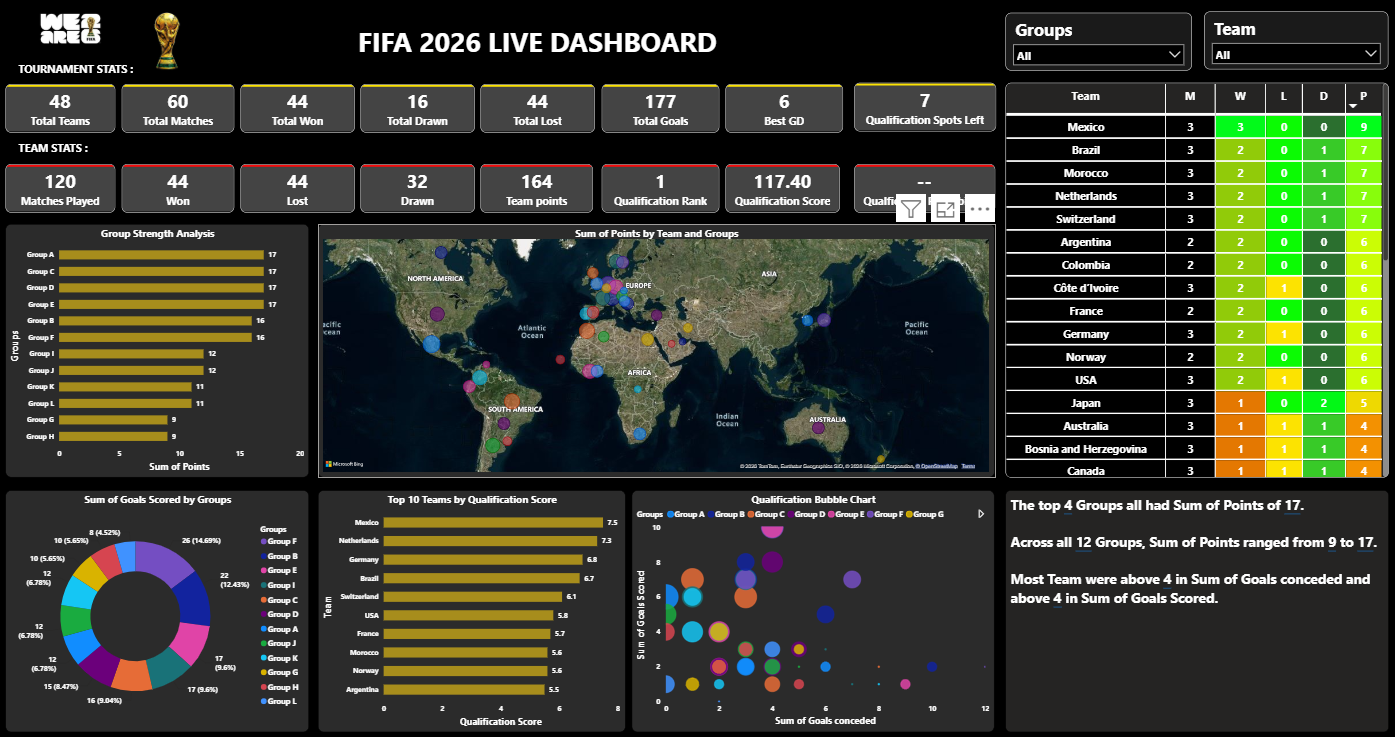

What the dashboard file says about the page in this screenshot:
{"tool":"powerbi","page":{"name":"Top 32 qualfiers","canvas":[2440,1300],"ordinal":0},"visuals":[{"type":"image","box":[248.9,13.5,91.9,125.6],"z":0},{"type":"image","box":[0,0,248.9,103.1],"z":1000},{"type":"slicer","fields":{"Values":["FIFA 2026 live.Groups"]},"box":[1755.6,24.7,325.1,100.9],"z":2000},{"type":"slicer","fields":{"Values":["FIFA 2026 live.Team"]},"box":[2103.1,22.4,320.6,100.9],"z":3000},{"type":"textbox","box":[30.2,104.1,220.2,43.7],"z":4000},{"type":"cardVisual","fields":{"Data":["Measure Table Tournament Stats.Total Matches"]},"box":[215.7,147.8,196,84.5],"z":5000},{"type":"cardVisual","fields":{"Data":["Measure Table Tournament Stats.Total Won"]},"box":[422.3,147.8,199.1,84.5],"z":6000},{"type":"cardVisual","fields":{"Data":["Measure Table Tournament Stats.Total Lost"]},"box":[841.5,147.8,199.1,84.5],"z":7000},{"type":"cardVisual","fields":{"Data":["Measure Table Tournament Stats.Total Draws"]},"box":[631.9,147.8,199.1,84.5],"z":8000},{"type":"cardVisual","fields":{"Data":["Measure Table Tournament Stats.Total Goals"]},"box":[1051.1,147.8,205.1,84.5],"z":9000},{"type":"cardVisual","fields":{"Data":["Measure Table Tournament Stats.Total Teams"]},"box":[13.6,147.8,191.5,84.5],"z":10000},{"type":"cardVisual","fields":{"Data":["Measure Table Tournament Stats.Best GD"]},"box":[1268.3,147.8,205.1,84.5],"z":11000},{"type":"cardVisual","fields":{"Data":["Measure Table Tournament Stats.Qualification Spots Left"]},"box":[1492,146.8,247.3,84.5],"z":12000},{"type":"textbox","box":[30.2,242.8,220.2,43.7],"z":13000},{"type":"cardVisual","fields":{"Data":["Measure Table for team.Matches Played"]},"box":[13.6,286.5,191.5,84.5],"z":14000},{"type":"cardVisual","fields":{"Data":["Measure Table for team.Won"]},"box":[215.7,286.5,196,84.5],"z":15000},{"type":"cardVisual","fields":{"Data":["Measure Table for team.Lost"]},"box":[422.3,286.5,199.1,84.5],"z":16000},{"type":"cardVisual","fields":{"Data":["Measure Table for team.Drawn"]},"box":[631.9,286.5,199.1,84.5],"z":17000},{"type":"cardVisual","fields":{"Data":["Measure Table for team.Qualification Score"]},"box":[1268.3,286.5,199.1,84.5],"z":18000},{"type":"cardVisual","fields":{"Data":["Measure Table Tournament Stats.Selected Team Probability"]},"box":[1493,286.5,245.8,84.5],"z":19000},{"type":"cardVisual","fields":{"Data":["Measure Table Tournament Stats.Qualification Rank"]},"box":[1051.6,287.5,205.1,84.5],"z":20000},{"type":"cardVisual","fields":{"Data":["Measure Table Tournament Stats.Team points"]},"box":[841.5,286.5,196,84.5],"z":21000},{"type":"clusteredBarChart","title":"Group Strength Analysis","fields":{"Category":["FIFA 2026 live.Groups"],"Y":["Sum(FIFA 2026 live.Points)"]},"box":[13.5,392.4,529.1,441.7],"z":22000},{"type":"scatterChart","title":"Qualification Bubble Chart","fields":{"Category":["FIFA 2026 live.Team"],"Series":["FIFA 2026 live.Groups"],"Size":["Sum(FIFA 2026 live.Points)"],"X":["Sum(FIFA 2026 live.Goals conceded)"],"Y":["Sum(FIFA 2026 live.Goals Scored)"]},"box":[1105.4,856.5,632.3,421.5],"z":23000},{"type":"tableEx","fields":{"Values":["FIFA 2026 live.Team","Sum(FIFA 2026 live.Matches Played)","Sum(FIFA 2026 live.Won)","Sum(FIFA 2026 live.Lost)","Sum(FIFA 2026 live.Drawn)","Sum(FIFA 2026 live.Points)"]},"box":[1755.6,145.7,668.2,688.3],"z":24000},{"type":"clusteredBarChart","title":"Top 10 Teams by Qualification Score","fields":{"Category":["FIFA 2026 live.Team"],"Y":["Measure Table for team.Qualification Score"]},"box":[558.3,856.5,535.9,421.5],"z":25000},{"type":"map","fields":{"Category":["FIFA 2026 live.Team"],"Series":["FIFA 2026 live.Groups"],"Size":["Sum(FIFA 2026 live.Points)"]},"box":[558.3,392.4,1179.4,441.7],"z":26000},{"type":"donutChart","fields":{"Category":["FIFA 2026 live.Groups"],"Y":["Sum(FIFA 2026 live.Goals Scored)"]},"box":[13.5,856.5,529.1,421.5],"z":27000},{"type":"card","fields":{"Values":["Measure Table for team.Dashboard Title"]},"box":[479.8,22.4,921.5,103.1],"z":28000},{"type":"textbox","box":[1755.6,856.5,668.2,421.5],"z":29000}]}

Visuals, with their boxes in screenshot pixels (x1, y1, x2, y2), scaled from the page's 2440x1300 canvas onto the 1395x737 screenshot:
image: select_region(142, 8, 195, 79)
image: select_region(0, 0, 142, 58)
slicer - FIFA 2026 live.Groups: select_region(1004, 14, 1190, 71)
slicer - FIFA 2026 live.Team: select_region(1202, 13, 1386, 70)
textbox: select_region(17, 59, 143, 84)
cardVisual - Measure Table Tournament Stats.Total Matches: select_region(123, 84, 235, 132)
cardVisual - Measure Table Tournament Stats.Total Won: select_region(241, 84, 355, 132)
cardVisual - Measure Table Tournament Stats.Total Lost: select_region(481, 84, 595, 132)
cardVisual - Measure Table Tournament Stats.Total Draws: select_region(361, 84, 475, 132)
cardVisual - Measure Table Tournament Stats.Total Goals: select_region(601, 84, 718, 132)
cardVisual - Measure Table Tournament Stats.Total Teams: select_region(8, 84, 117, 132)
cardVisual - Measure Table Tournament Stats.Best GD: select_region(725, 84, 842, 132)
cardVisual - Measure Table Tournament Stats.Qualification Spots Left: select_region(853, 83, 994, 131)
textbox: select_region(17, 138, 143, 162)
cardVisual - Measure Table for team.Matches Played: select_region(8, 162, 117, 210)
cardVisual - Measure Table for team.Won: select_region(123, 162, 235, 210)
cardVisual - Measure Table for team.Lost: select_region(241, 162, 355, 210)
cardVisual - Measure Table for team.Drawn: select_region(361, 162, 475, 210)
cardVisual - Measure Table for team.Qualification Score: select_region(725, 162, 839, 210)
cardVisual - Measure Table Tournament Stats.Selected Team Probability: select_region(854, 162, 994, 210)
cardVisual - Measure Table Tournament Stats.Qualification Rank: select_region(601, 163, 718, 211)
cardVisual - Measure Table Tournament Stats.Team points: select_region(481, 162, 593, 210)
"Group Strength Analysis" clusteredBarChart: select_region(8, 222, 310, 473)
"Qualification Bubble Chart" scatterChart: select_region(632, 486, 993, 725)
tableEx - FIFA 2026 live.Team x Sum(FIFA 2026 live.Matches Played): select_region(1004, 83, 1386, 473)
"Top 10 Teams by Qualification Score" clusteredBarChart: select_region(319, 486, 626, 725)
map - FIFA 2026 live.Team x FIFA 2026 live.Groups: select_region(319, 222, 993, 473)
donutChart - FIFA 2026 live.Groups x Sum(FIFA 2026 live.Goals Scored): select_region(8, 486, 310, 725)
card - Measure Table for team.Dashboard Title: select_region(274, 13, 801, 71)
textbox: select_region(1004, 486, 1386, 725)
